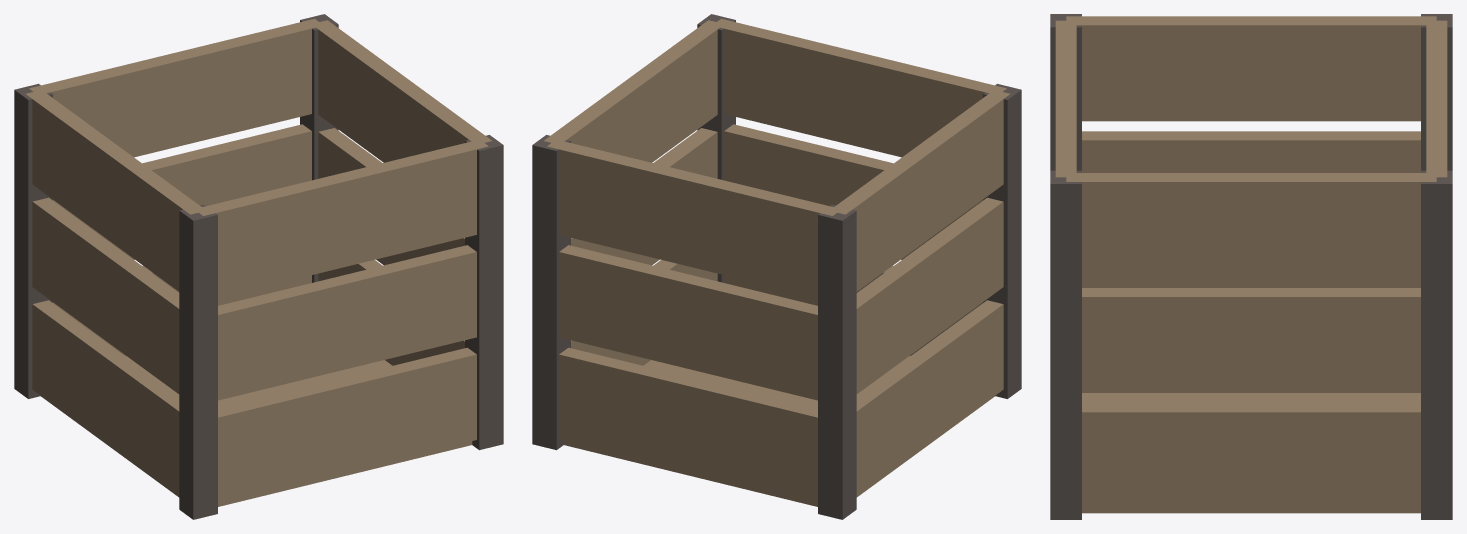
Rendered from v2_crate.glb.
3 views of the same model, side by side, from view 1: azimuth 30°, elevation 25°; view 2: azimuth 150°, elevation 25°; view 3: azimuth 270°, elevation 25° (orthographic). The views are drawn at different scales.
Visible parts, largest first — view 1: v2_crate; view 2: v2_crate; view 3: v2_crate.
Part boxes in pixels (x1,y1,x2,y2): v2_crate: [14, 14, 503, 519]; v2_crate: [532, 14, 1021, 519]; v2_crate: [1050, 14, 1452, 519].
Size of the model in its own units: 0.76 by 0.7 by 0.76.
